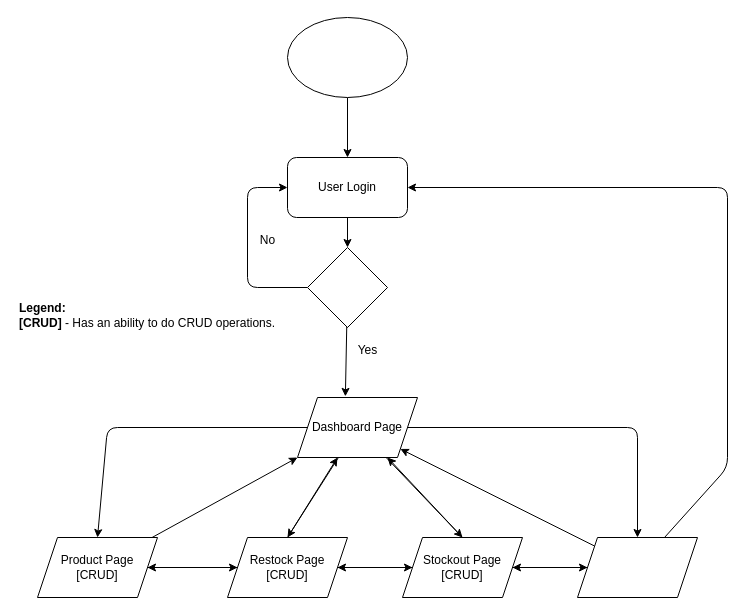
Image size: 753x615. Some labels were removed from this diagram. Each missing label, with the centre of its shape:
"Is Valid" goes at point (347, 287).
"START" goes at point (347, 57).
"User Information Page [Log Out, Delete]" goes at point (637, 567).
